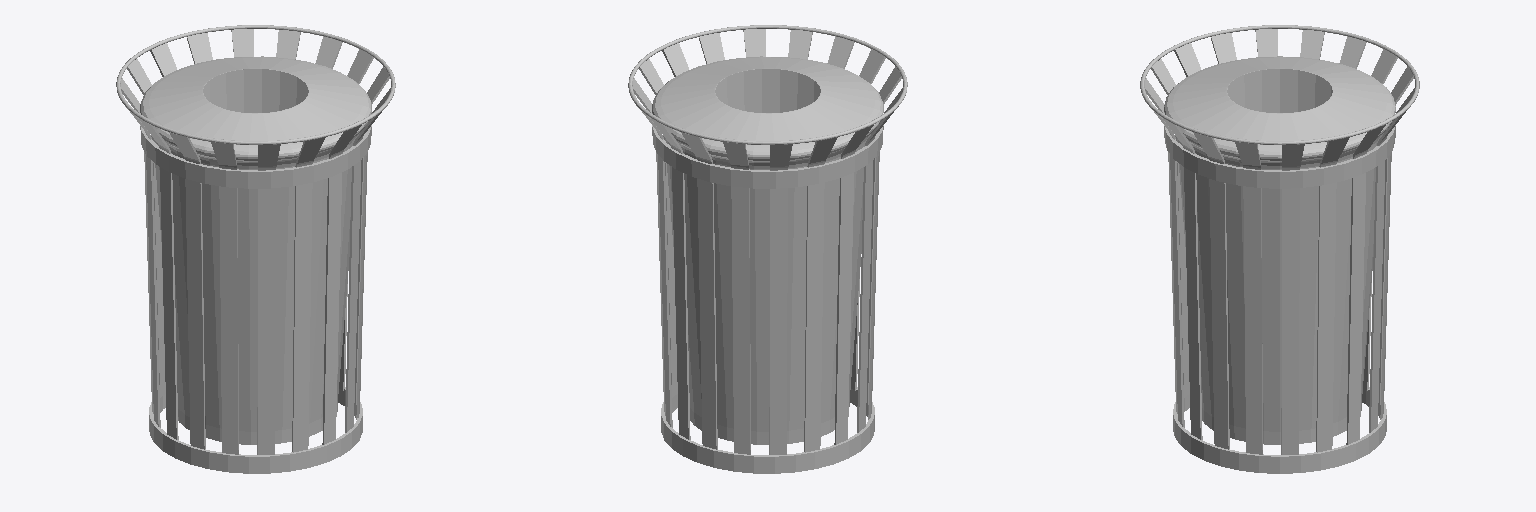
Rendered from trashCan.obj.
3 views of the same model, side by side, from view 1: azimuth 30°, elevation 25°; view 2: azimuth 150°, elevation 25°; view 3: azimuth 270°, elevation 25° (orthographic).
Parts seen in each view (by area): view 1: Cylinder; view 2: Cylinder; view 3: Cylinder.
Boxes of the visible parts, <box> form: Cylinder: <box>116,25,395,473</box>; Cylinder: <box>628,25,907,473</box>; Cylinder: <box>1140,25,1419,473</box>.
Size of the model in its own units: 0.8199 by 1.12 by 0.8187.